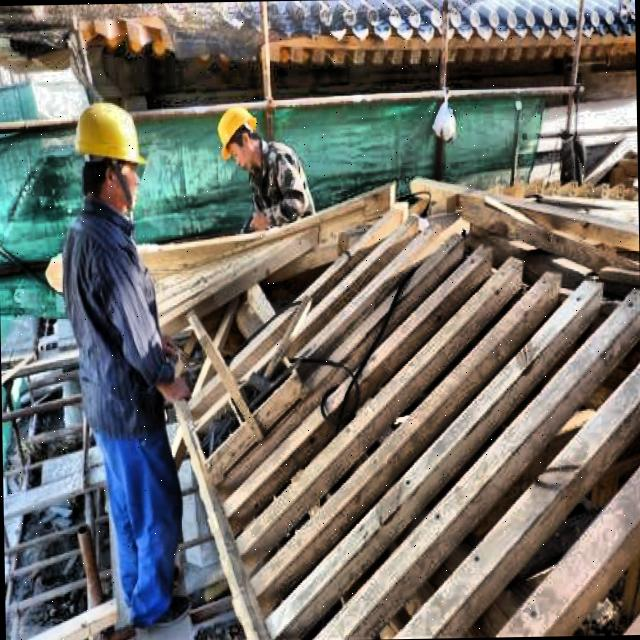helmet: (70, 91, 153, 220), (212, 101, 268, 172)
